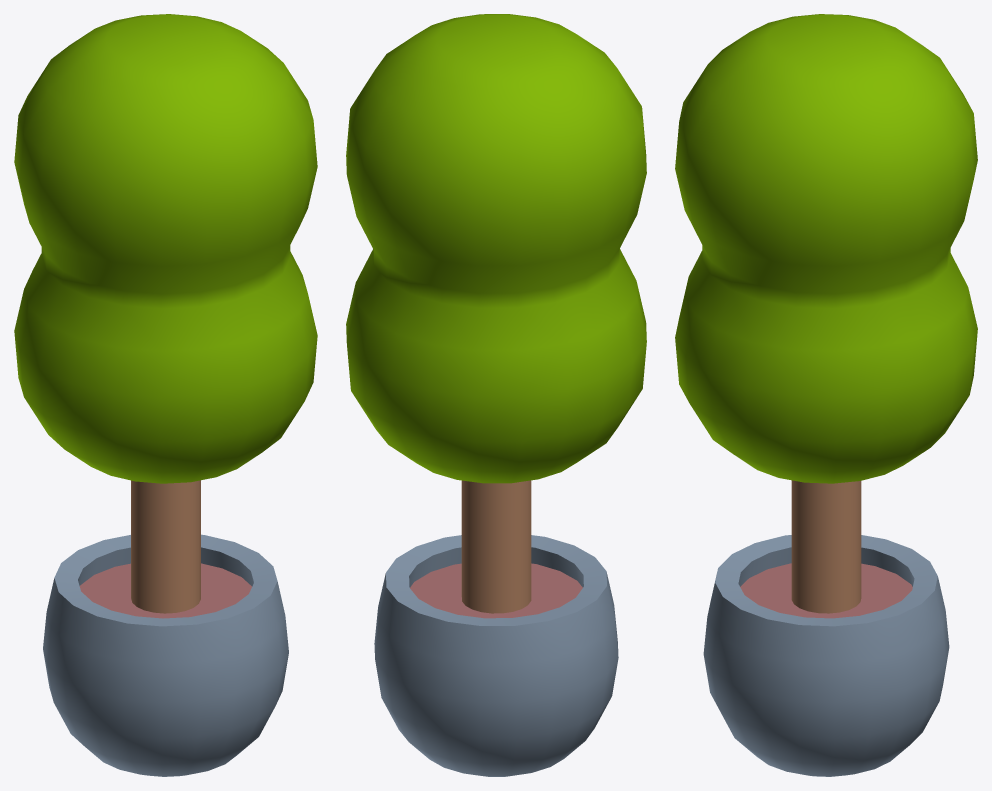
File: quaternius-sushi-restaurant-decoration-plant-2.glb
3 views of the same model, side by side, from view 1: azimuth 30°, elevation 25°; view 2: azimuth 150°, elevation 25°; view 3: azimuth 270°, elevation 25° (orthographic).
Parts seen in each view (by area): view 1: Decoration_Plant2; view 2: Decoration_Plant2; view 3: Decoration_Plant2.
Part boxes in pixels (x1,y1,x2,y2): Decoration_Plant2: [14, 14, 317, 776]; Decoration_Plant2: [346, 14, 646, 776]; Decoration_Plant2: [675, 14, 977, 776].
Bounding box in the file's own units: 0.6964 × 1.82 × 0.6964.
1 material, 1 textured.
